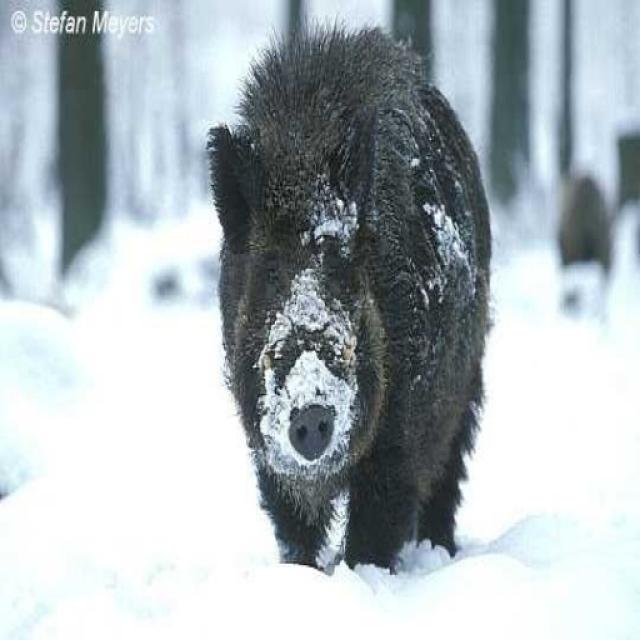pig: (204, 5, 515, 584)
